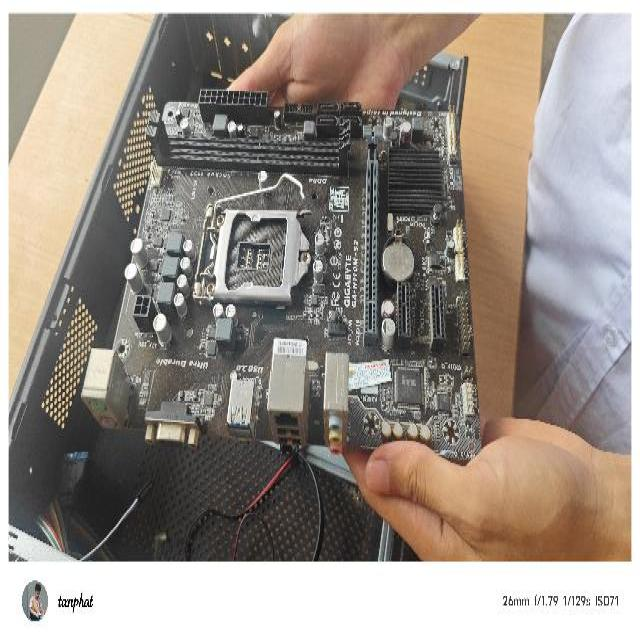Mainboard: (88, 87, 486, 464)
